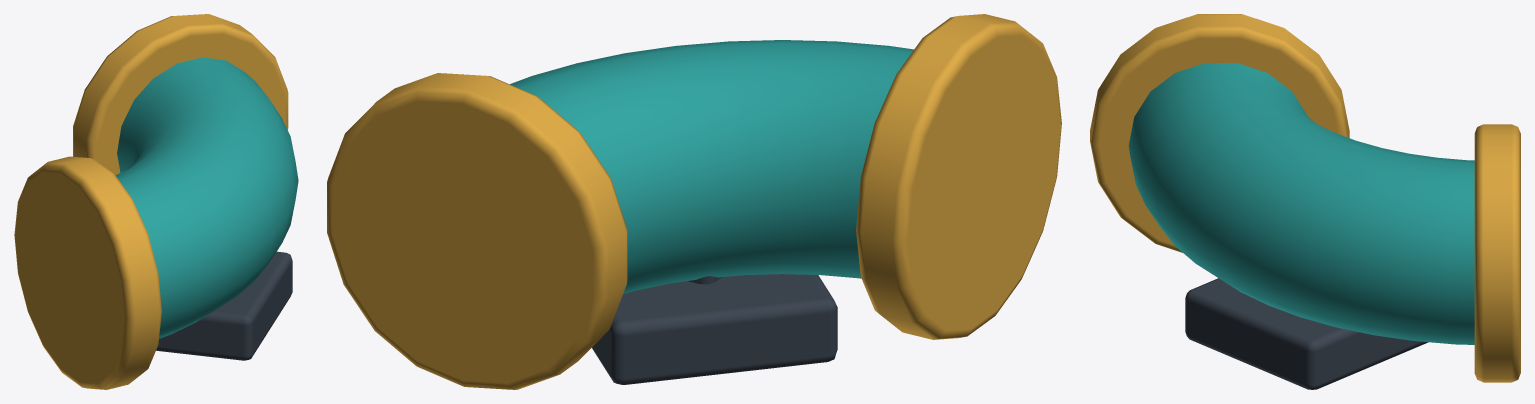
Rendered from pipe_corner.glb.
3 views of the same model, side by side, from view 1: azimuth 30°, elevation 25°; view 2: azimuth 150°, elevation 25°; view 3: azimuth 270°, elevation 25° (orthographic). The views are drawn at different scales.
Parts seen in each view (by area): view 1: pipe_corner_body; view 2: pipe_corner_body; view 3: pipe_corner_body.
Boxes of the visible parts, x1,y1,x2,y2 form: pipe_corner_body: (14, 14, 298, 389); pipe_corner_body: (327, 14, 1061, 389); pipe_corner_body: (1090, 14, 1520, 389).
Size of the model in its own units: 0.9257 by 0.58 by 0.93.
